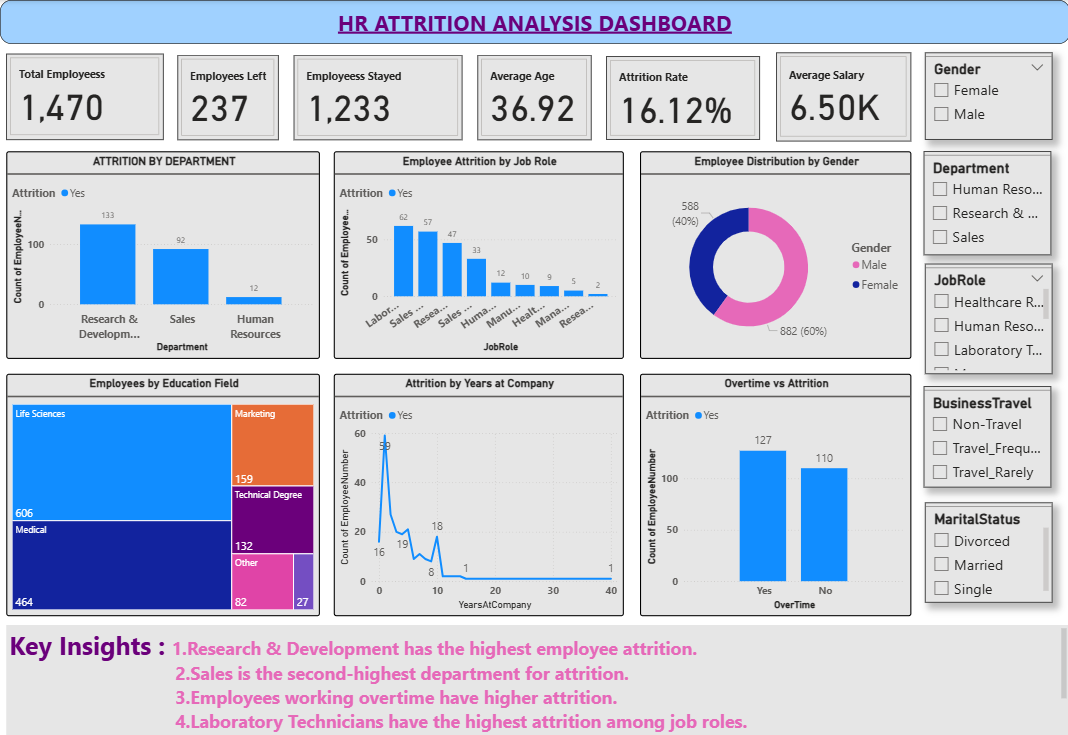

Layout of this report page (visuals, bound fields, positions):
{"tool":"powerbi","page":{"name":"Page 1","canvas":[1600,1100],"ordinal":0},"visuals":[{"type":"cardVisual","fields":{"Data":["hr_attrition employee_attrition.Total Employee Display"]},"box":[9.3,80.3,235.4,128.9],"z":0},{"type":"cardVisual","fields":{"Data":["hr_attrition employee_attrition.Employee Left"]},"box":[265.3,82.2,151.3,127],"z":1000},{"type":"cardVisual","fields":{"Data":["hr_attrition employee_attrition.Employees Stayed Display"]},"box":[439,82.2,252.2,127],"z":2000},{"type":"textbox","box":[0,0,1599.2,65.4],"z":3000},{"type":"cardVisual","fields":{"Data":["hr_attrition employee_attrition.Average Age"]},"box":[713.7,82.2,170,127],"z":4000},{"type":"cardVisual","fields":{"Data":["hr_attrition employee_attrition.Attrition Rate"]},"box":[906.1,84.1,229.8,125.2],"z":5000},{"type":"cardVisual","fields":{"Data":["hr_attrition employee_attrition.Average Salary"]},"box":[1160.2,78.5,201.8,132.6],"z":6000},{"type":"clusteredColumnChart","title":"ATTRITION BY DEPARTMENT","fields":{"Category":["hr_attrition employee_attrition.Department"],"Y":["CountNonNull(hr_attrition employee_attrition.EmployeeNumber)"],"Series":["hr_attrition employee_attrition.Attrition"]},"box":[9.3,226.1,468.9,310.1],"z":7000},{"type":"clusteredColumnChart","title":"Employee Attrition by Job Role","fields":{"Category":["hr_attrition employee_attrition.JobRole"],"Series":["hr_attrition employee_attrition.Attrition"],"Y":["CountNonNull(hr_attrition employee_attrition.EmployeeNumber)"]},"box":[498.8,226.1,433.4,310.1],"z":8000},{"type":"donutChart","title":"Employee Distribution by Gender","fields":{"Category":["hr_attrition employee_attrition.Gender"],"Y":["CountNonNull(hr_attrition employee_attrition.EmployeeNumber)"]},"box":[956.5,226.1,405.4,310.1],"z":9000},{"type":"clusteredColumnChart","title":"Overtime vs Attrition","fields":{"Series":["hr_attrition employee_attrition.Attrition"],"Category":["hr_attrition employee_attrition.OverTime"],"Y":["CountNonNull(hr_attrition employee_attrition.EmployeeNumber)"]},"box":[956.5,558.6,405.4,362.4],"z":10000},{"type":"treemap","title":"Employees by Education Field","fields":{"Group":["hr_attrition employee_attrition.EducationField"],"Values":["CountNonNull(hr_attrition employee_attrition.EmployeeNumber)"]},"box":[9.3,558.6,468.9,362.4],"z":11000},{"type":"lineChart","title":"Attrition by Years at Company","fields":{"Category":["hr_attrition employee_attrition.YearsAtCompany"],"Y":["CountNonNull(hr_attrition employee_attrition.EmployeeNumber)"],"Series":["hr_attrition employee_attrition.Attrition"]},"box":[498.8,558.6,433.4,362.4],"z":12000},{"type":"slicer","fields":{"Values":["hr_attrition employee_attrition.Gender"]},"box":[1382.5,78.5,190.6,130.8],"z":13000},{"type":"slicer","fields":{"Values":["hr_attrition employee_attrition.Department"]},"box":[1380.6,226.1,190.6,155.1],"z":14000},{"type":"slicer","fields":{"Values":["hr_attrition employee_attrition.JobRole"]},"box":[1382.5,394.2,190.6,164.4],"z":15000},{"type":"slicer","fields":{"Values":["hr_attrition employee_attrition.BusinessTravel"]},"box":[1380.6,577.3,190.6,151.3],"z":16000},{"type":"slicer","fields":{"Values":["hr_attrition employee_attrition.MaritalStatus"]},"box":[1382.5,751,190.6,149.5],"z":17000},{"type":"textbox","box":[9.3,934.1,1589.9,166.3],"z":18000}]}

Visuals, with their boxes in screenshot pixels (x1, y1, x2, y2), scaled from the page's 1600x1100 canvas onto the 1068x735 screenshot:
cardVisual - hr_attrition employee_attrition.Total Employee Display: locate(6, 54, 163, 140)
cardVisual - hr_attrition employee_attrition.Employee Left: locate(177, 55, 278, 140)
cardVisual - hr_attrition employee_attrition.Employees Stayed Display: locate(293, 55, 461, 140)
textbox: locate(0, 0, 1067, 44)
cardVisual - hr_attrition employee_attrition.Average Age: locate(476, 55, 590, 140)
cardVisual - hr_attrition employee_attrition.Attrition Rate: locate(605, 56, 758, 140)
cardVisual - hr_attrition employee_attrition.Average Salary: locate(774, 52, 909, 141)
"ATTRITION BY DEPARTMENT" clusteredColumnChart: locate(6, 151, 319, 358)
"Employee Attrition by Job Role" clusteredColumnChart: locate(333, 151, 622, 358)
"Employee Distribution by Gender" donutChart: locate(638, 151, 909, 358)
"Overtime vs Attrition" clusteredColumnChart: locate(638, 373, 909, 615)
"Employees by Education Field" treemap: locate(6, 373, 319, 615)
"Attrition by Years at Company" lineChart: locate(333, 373, 622, 615)
slicer - hr_attrition employee_attrition.Gender: locate(923, 52, 1050, 140)
slicer - hr_attrition employee_attrition.Department: locate(922, 151, 1049, 255)
slicer - hr_attrition employee_attrition.JobRole: locate(923, 263, 1050, 373)
slicer - hr_attrition employee_attrition.BusinessTravel: locate(922, 386, 1049, 487)
slicer - hr_attrition employee_attrition.MaritalStatus: locate(923, 502, 1050, 602)
textbox: locate(6, 624, 1067, 734)
